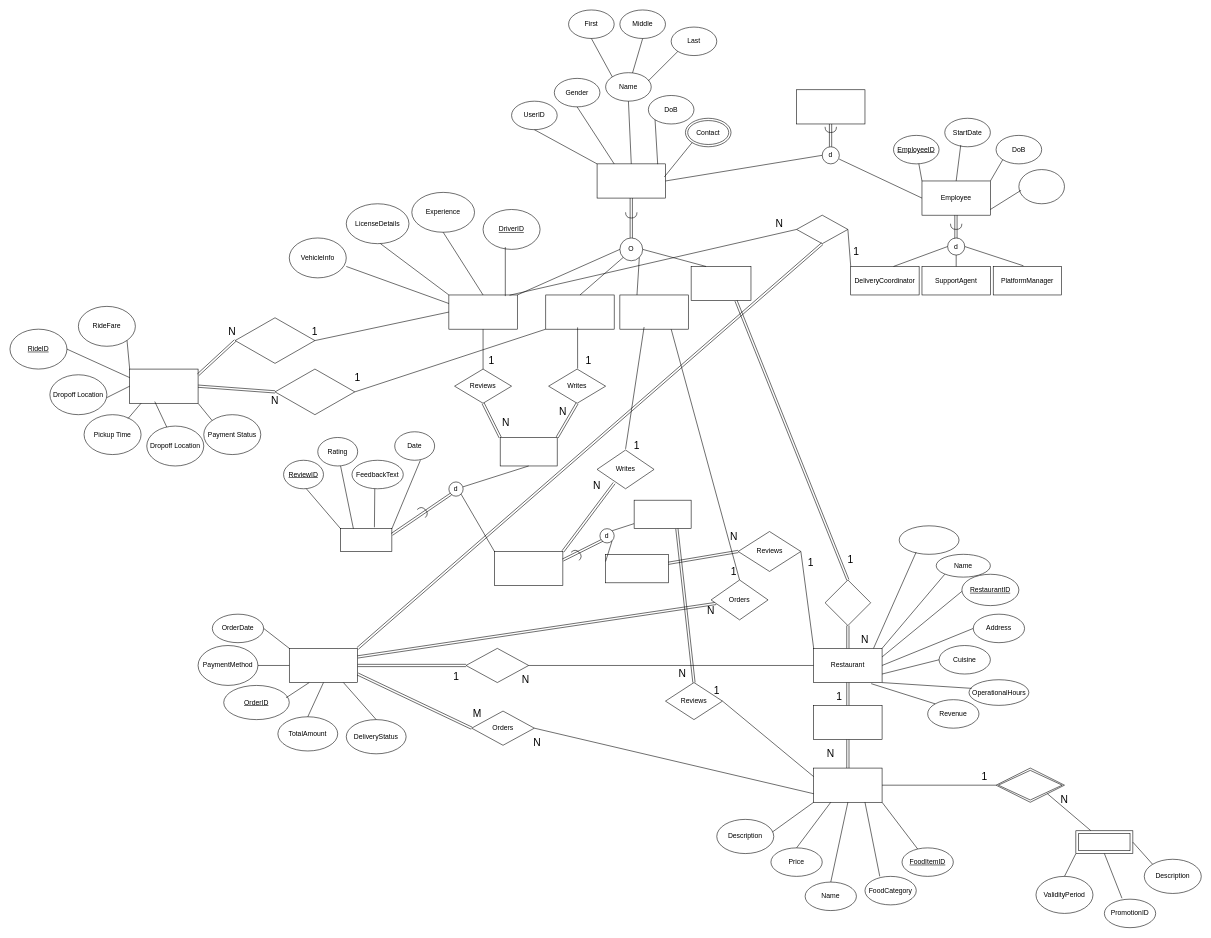
The diagram is 1211 pixels wide and 938 high, and some of its shapes have lost their labels. The box of each missing label's shape, as (x1, y1, x2, y2) in pixels:
AccountHolder: (796, 89, 865, 124)
Assigns: (796, 215, 848, 244)
Customer: (619, 294, 688, 329)
CustomerReview: (494, 551, 563, 586)
Department: (1018, 169, 1064, 204)
Driver: (448, 294, 517, 329)
Drives: (235, 317, 315, 363)
FoodItem: (813, 768, 882, 802)
FoodItemReview: (634, 500, 691, 529)
FoodOrders: (289, 648, 358, 683)
Menu: (813, 705, 882, 740)
OrdersFrom: (465, 648, 529, 683)
OwnershipDetails: (899, 525, 959, 554)
Owns: (825, 579, 871, 626)
Promotes: (996, 768, 1064, 802)
Promotion: (1075, 830, 1133, 854)
RestaurantOwner: (691, 266, 751, 301)
RestaurantReview: (605, 554, 668, 583)
Review: (340, 528, 392, 551)
Ride: (129, 369, 198, 403)
Rider: (545, 294, 614, 329)
RideReview: (500, 437, 557, 466)
Rides: (274, 369, 355, 415)
Users: (597, 163, 665, 198)
